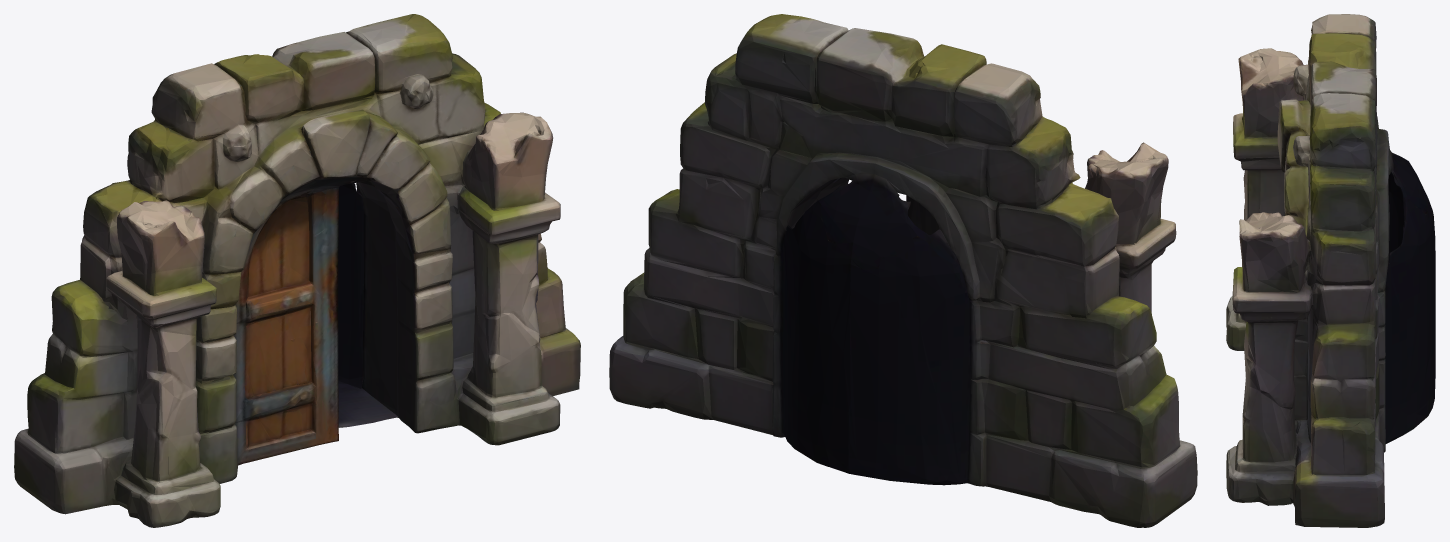
Rendered from crypt_gate.glb.
3 views of the same model, side by side, from view 1: azimuth 30°, elevation 25°; view 2: azimuth 150°, elevation 25°; view 3: azimuth 270°, elevation 25° (orthographic). The views are drawn at different scales.
Visible parts, largest first — view 1: world; view 2: world; view 3: world.
Part boxes in pixels (x1,y1,x2,y2): world: (14, 14, 580, 527); world: (609, 14, 1197, 527); world: (1226, 14, 1435, 527).
Bounding box in the file's own units: 0.9993 × 0.699 × 0.3774.
1 material, 1 textured.
